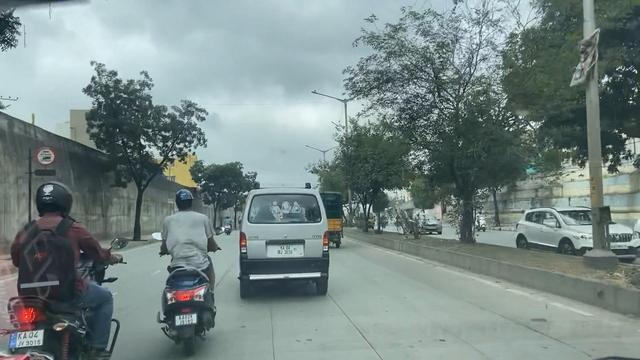LMV: (18, 193, 126, 360), (153, 176, 227, 360), (228, 184, 330, 306)
